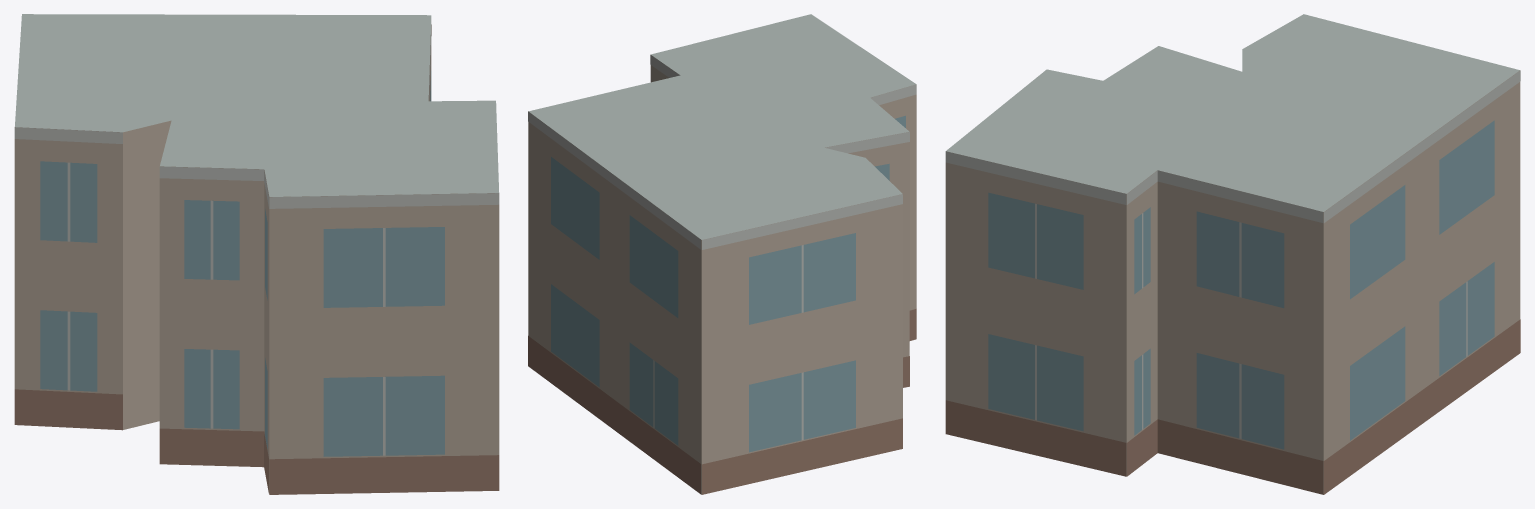
File: survey-upis-33021515.glb
3 views of the same model, side by side, from view 1: azimuth 30°, elevation 25°; view 2: azimuth 150°, elevation 25°; view 3: azimuth 270°, elevation 25° (orthographic). The views are drawn at different scales.
Parts seen in each view (by area): view 1: survey-upis-33021515.tmp; view 2: survey-upis-33021515.tmp; view 3: survey-upis-33021515.tmp.
Part boxes in pixels (x1,y1,x2,y2): survey-upis-33021515.tmp: [14, 14, 499, 494]; survey-upis-33021515.tmp: [528, 14, 916, 494]; survey-upis-33021515.tmp: [945, 14, 1520, 494].
Bounding box in the file's own units: 9.17 × 6.1 × 11.24.
